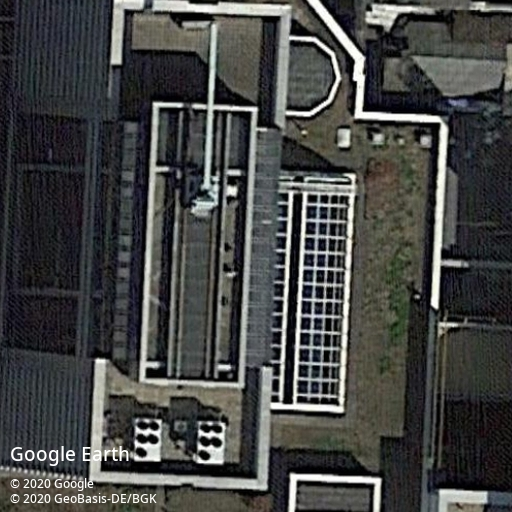Chiller: (134, 418, 161, 462), (197, 420, 224, 464), (173, 420, 187, 432)
